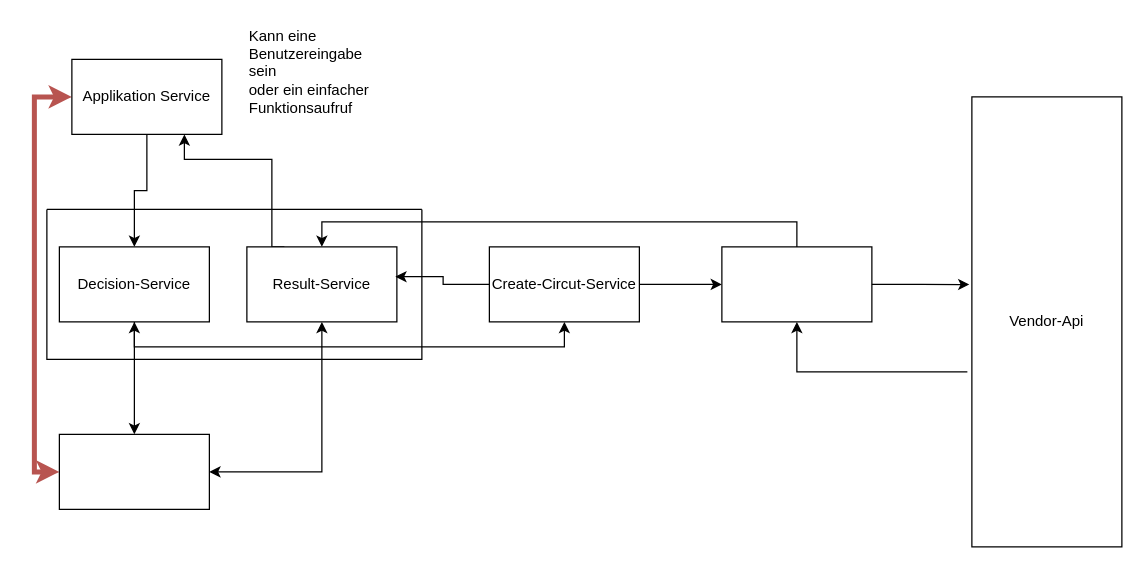
This 1144x569 diagram has some shape labels left out. Each missing label, with the centre of its shape:
Data Service: point (133, 471)
Service um die Daten via simulator oder echten Quantencomputer: point (796, 284)
